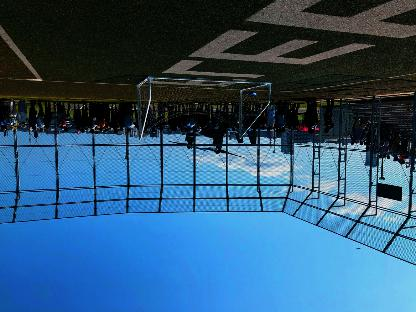Tornado: (166, 118, 256, 160)
